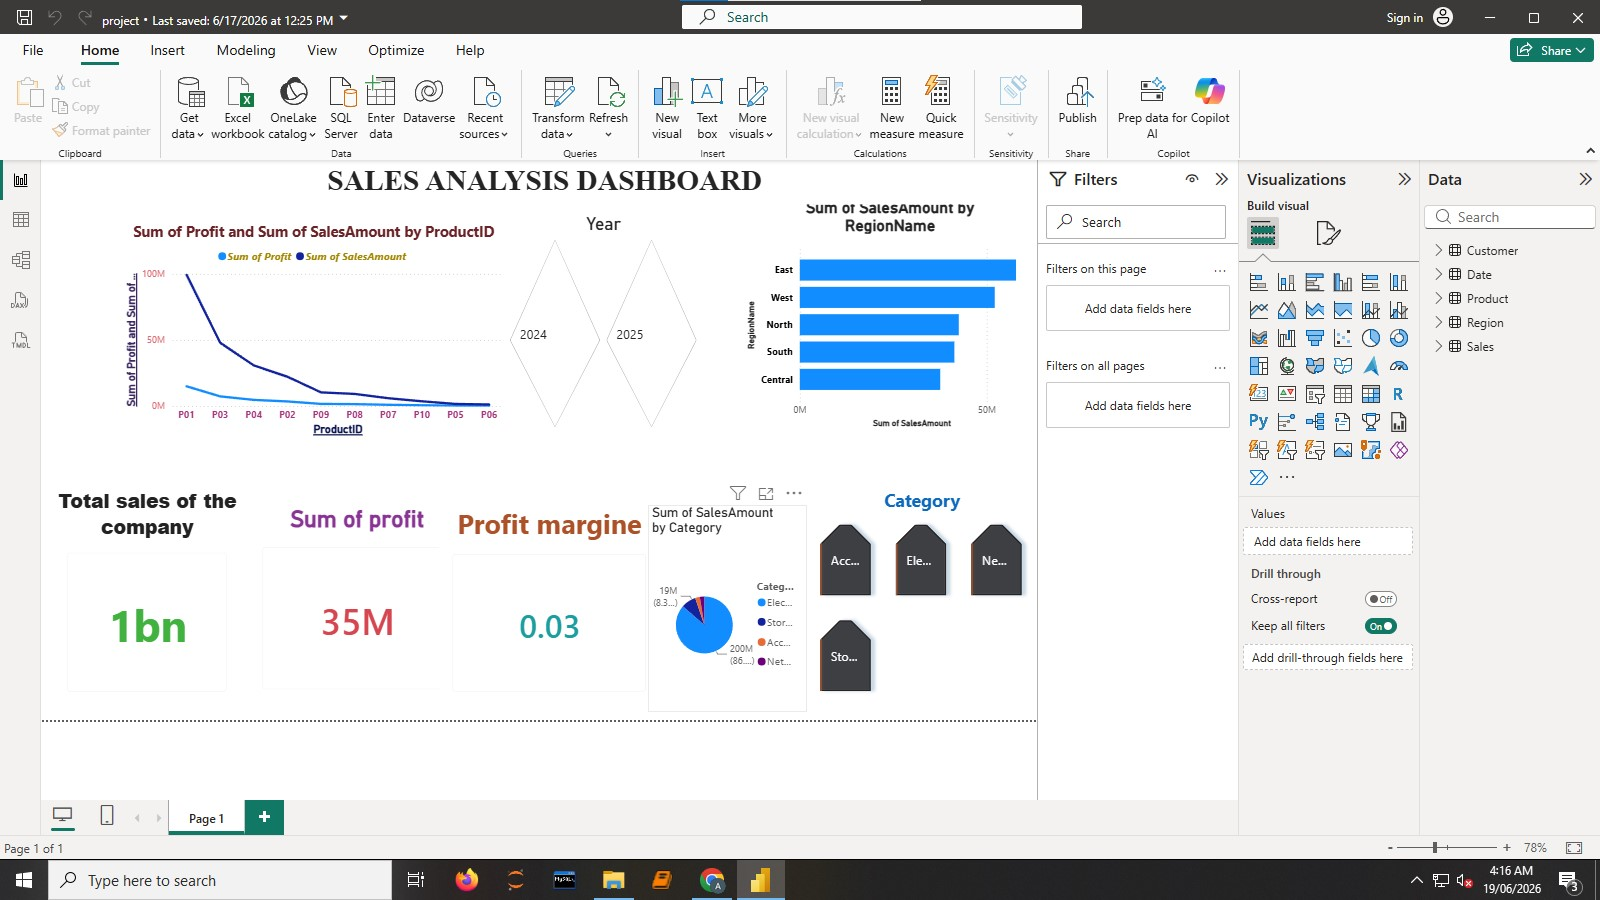

The dashboard page shown, as its layout file describes it:
{"tool":"powerbi","page":{"name":"Page 1","canvas":[1280,720],"ordinal":0},"visuals":[{"type":"lineChart","fields":{"Category":["Product.ProductID"],"Y":["Sum(Sales.Profit)","Sum(Sales.SalesAmount)"]},"box":[102.6,78.6,495.5,281],"z":0},{"type":"cardVisual","title":"Total sales of the company","fields":{"Data":["Customer.Grand total"]},"box":[17.3,420.9,239.8,279.7],"z":1000},{"type":"cardVisual","title":"Sum of profit","fields":{"Data":["Sum(Sales.Profit)"]},"box":[267.7,443.5,278.4,254.4],"z":2000},{"type":"cardVisual","title":"Profit margine","fields":{"Data":["Customer.profit margine"]},"box":[511.5,443.5,283.7,257.1],"z":3000},{"type":"advancedSlicerVisual","fields":{"Values":["Date.Year"]},"box":[598,69.3,250.4,279.7],"z":4000},{"type":"advancedSlicerVisual","fields":{"Values":["Product.Category"]},"box":[984.3,420.9,295.7,279.7],"z":5000},{"type":"clusteredBarChart","fields":{"Category":["Region.RegionName"],"Y":["Sum(Sales.SalesAmount)"]},"box":[901.7,49.3,378.3,299.7],"z":6000},{"type":"textbox","box":[75.9,0,1142.8,57.3],"z":7000},{"type":"pieChart","fields":{"Category":["Product.Category"],"Y":["Sum(Sales.SalesAmount)"]},"box":[780.5,443.5,203.8,266.4],"z":8000}]}

Visuals, with their boxes in screenshot pixels (x1, y1, x2, y2):
lineChart - Product.ProductID x Sum(Sales.Profit): [x1=123, y1=59, x2=756, y2=418]
"Total sales of the company" cardVisual: [x1=14, y1=496, x2=320, y2=854]
"Sum of profit" cardVisual: [x1=334, y1=525, x2=690, y2=850]
"Profit margine" cardVisual: [x1=645, y1=525, x2=1008, y2=854]
advancedSlicerVisual - Date.Year: [x1=756, y1=47, x2=1076, y2=404]
advancedSlicerVisual - Product.Category: [x1=1250, y1=496, x2=1599, y2=854]
clusteredBarChart - Region.RegionName x Sum(Sales.SalesAmount): [x1=1144, y1=21, x2=1599, y2=404]
textbox: [x1=89, y1=0, x2=1549, y2=32]
pieChart - Product.Category x Sum(Sales.SalesAmount): [x1=989, y1=525, x2=1250, y2=866]
